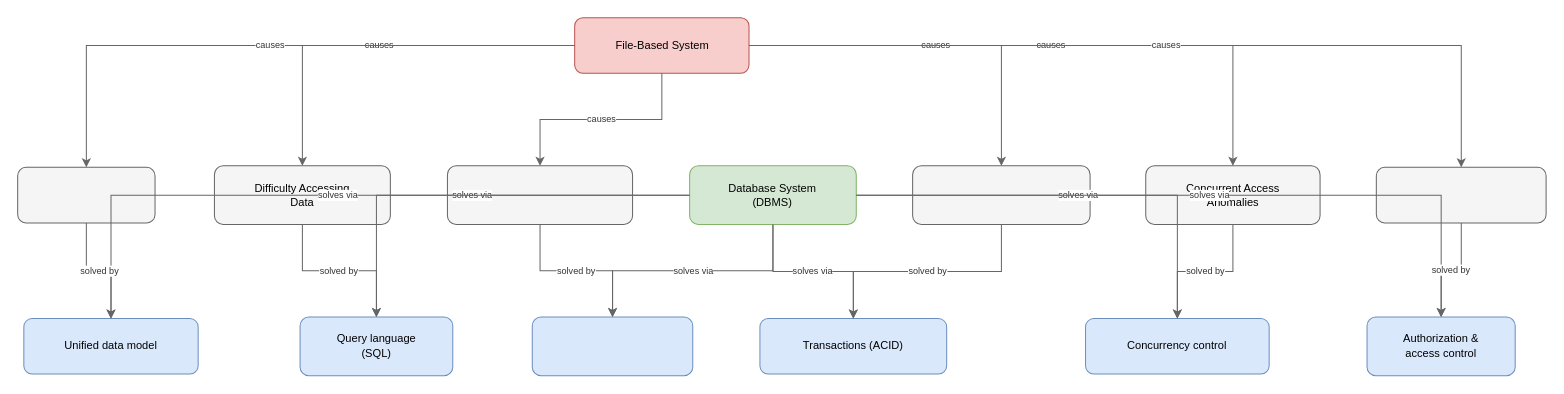
Some shapes in this 1564 by 394 pixel diagram are drawn without their labels. The shapes that lost their labels are listed below. From the top down, each one's centre as x and y in pixels, then its label:
At [86,194]: "Data Isolation".
At [539,195]: "Data Redundancy & Inconsistency".
At [1001,195]: "Integrity & Atomicity Problems".
At [1460,194]: "Security Problems".
At [612,346]: "Centralized data, no redundancy".
